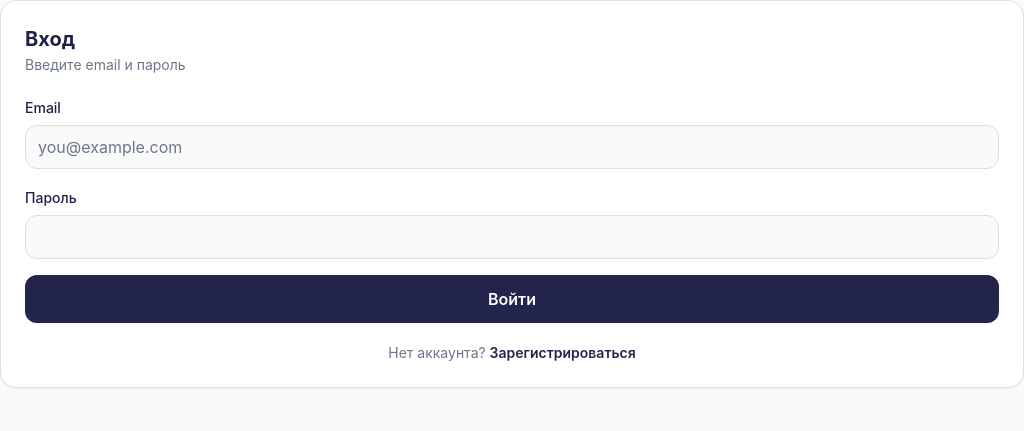
LoginForm › shows validation when password is too short
This screenshot has width=1024, height=431.
Step 1. Type "test@example.com" into the field labelled "Email" → (512, 147), box [25,125,999,169]
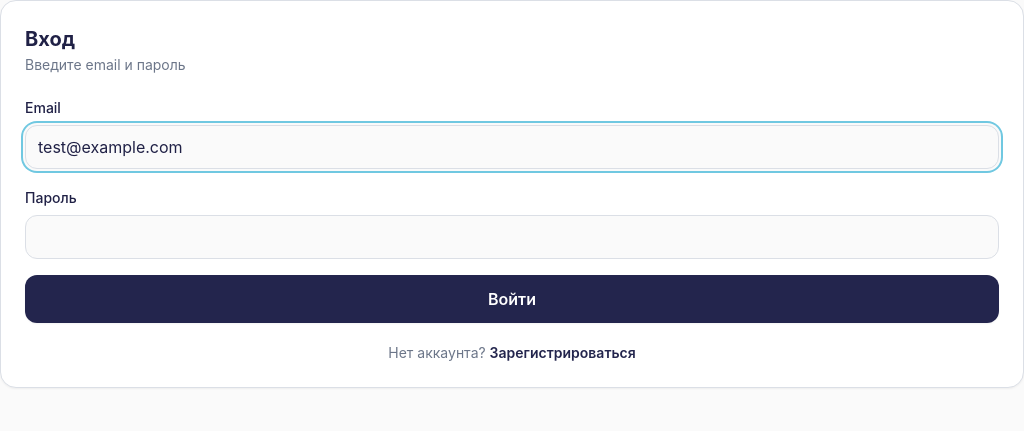
Step 2. Type "short" into the password field labelled "Пароль" → (512, 237), box [25,215,999,259]
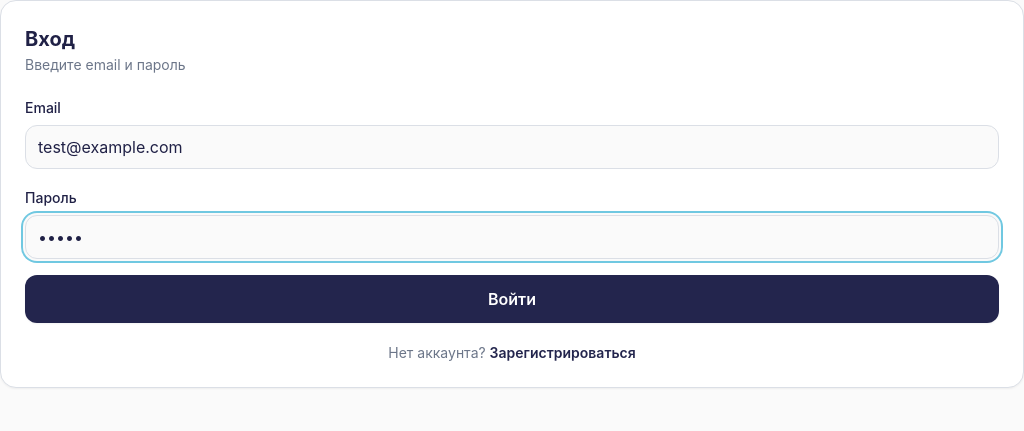
Step 3. Click the button "Войти" → (512, 299), box [25,275,999,323]
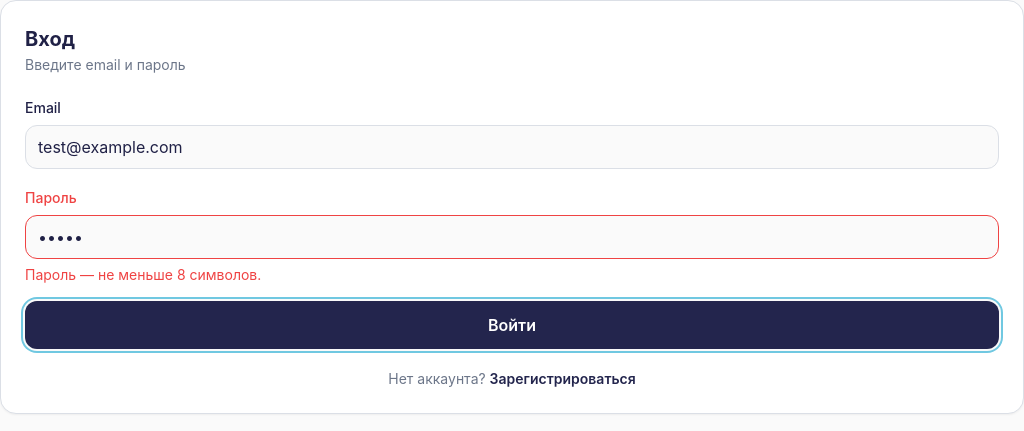
expect the message shows "8 символов": met, box [25,266,261,283]
